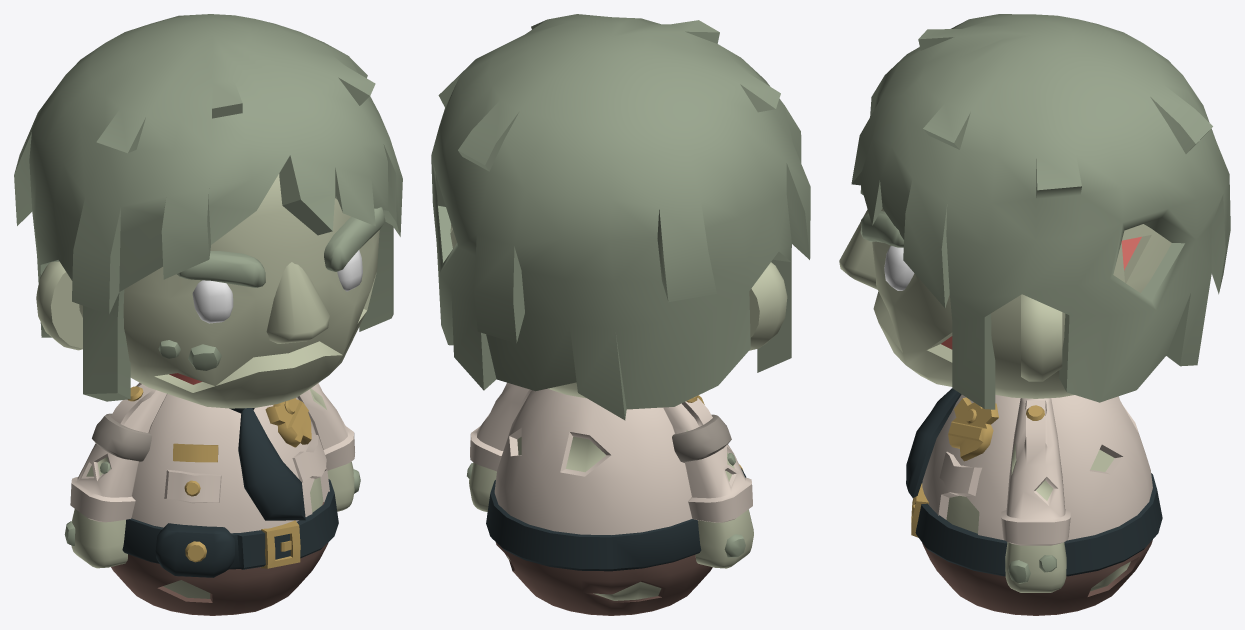
File: character_zombieB.fbx
3 views of the same model, side by side, from view 1: azimuth 30°, elevation 25°; view 2: azimuth 150°, elevation 25°; view 3: azimuth 270°, elevation 25° (orthographic).
Parts seen in each view (by area): view 1: character_zombieB_head, character_zombieB_body, character_zombieB_armRight, character_zombieB_armLeft; view 2: character_zombieB_head, character_zombieB_body, character_zombieB_armRight, character_zombieB_armLeft; view 3: character_zombieB_head, character_zombieB_body, character_zombieB_armLeft.
Part boxes in pixels (x1,y1,x2,y2): character_zombieB_head: (14, 14, 402, 408); character_zombieB_body: (111, 382, 338, 615); character_zombieB_armRight: (64, 384, 166, 568); character_zombieB_armLeft: (297, 383, 360, 511); character_zombieB_head: (431, 14, 810, 420); character_zombieB_body: (486, 388, 746, 615); character_zombieB_armRight: (663, 396, 753, 568); character_zombieB_armLeft: (467, 382, 531, 512); character_zombieB_head: (839, 14, 1230, 409); character_zombieB_body: (906, 388, 1162, 615); character_zombieB_armLeft: (1001, 398, 1070, 592).
Bounding box in the file's own units: 1.18 × 1.78 × 1.15.
